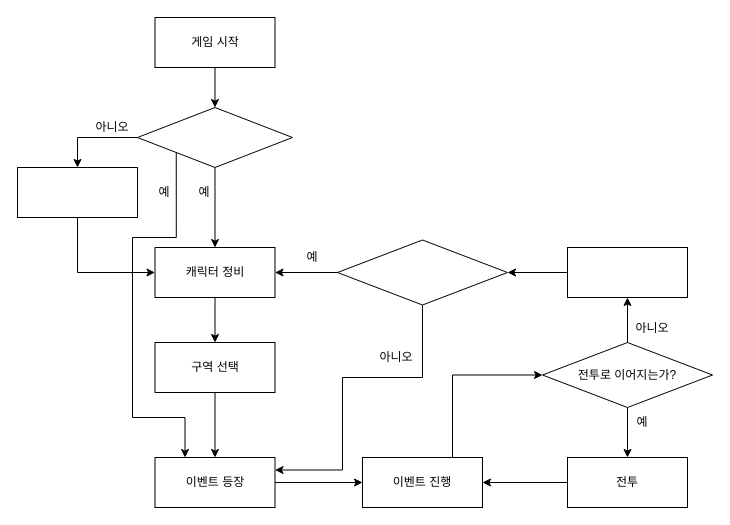
This 730x525 diagram has some shape labels left out. The centre of each missing label's shape, as x and y in pixels:
5번의 이벤트를 진행하였는가?: pixel 422 272
이벤트 종료: pixel 627 272
이전 데이터 있음?: pixel 214 137
캐릭터 생성: pixel 77 192
